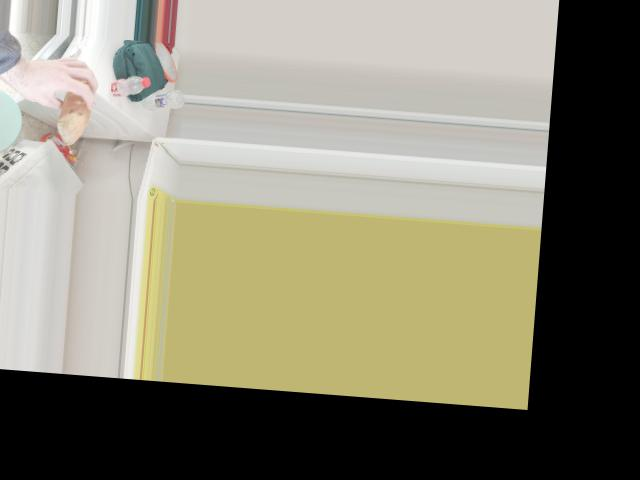sweet_potato: (63, 84, 89, 133)
